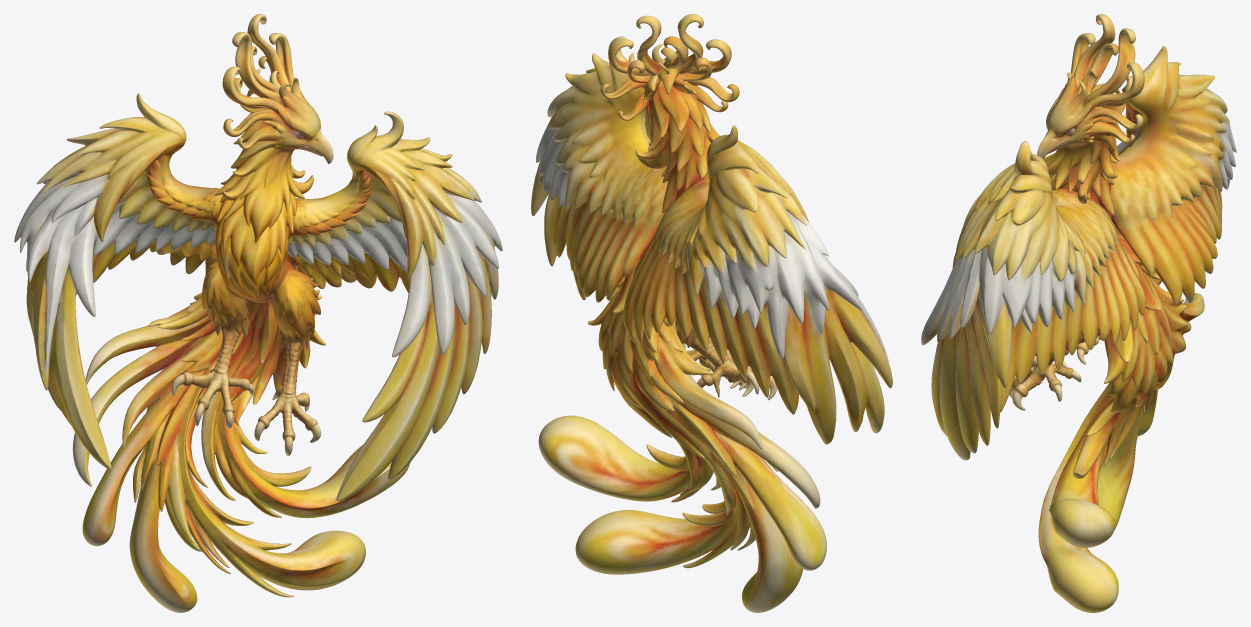
3 renders of one model, left to right at view 1: azimuth 30°, elevation 25°; view 2: azimuth 150°, elevation 25°; view 3: azimuth 270°, elevation 25°, orthographic. The views are drawn at different scales.
Visible parts, largest first — view 1: Meshy_AI_Silvercrest_Gryphon_20261120_texture; view 2: Meshy_AI_Silvercrest_Gryphon_20261120_texture; view 3: Meshy_AI_Silvercrest_Gryphon_20261120_texture.
Boxes of the visible parts, x1,y1,x2,y2 form: Meshy_AI_Silvercrest_Gryphon_20261120_texture: [14, 14, 502, 612]; Meshy_AI_Silvercrest_Gryphon_20261120_texture: [531, 14, 892, 612]; Meshy_AI_Silvercrest_Gryphon_20261120_texture: [921, 14, 1236, 612].
Size of the model in its own units: 18.11 by 24.26 by 12.54.
1 material, 1 textured.
